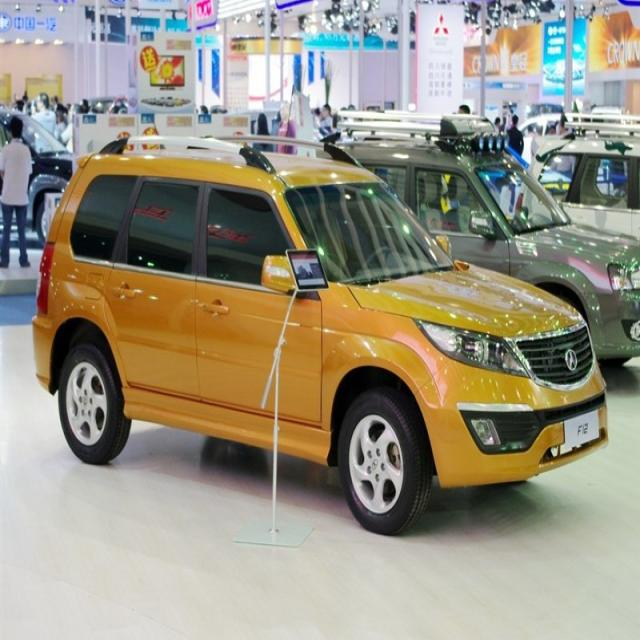back_right_side_light: (34, 238, 53, 320)
door: (111, 180, 214, 417)
front_bumper: (417, 362, 609, 490)
front_glass: (286, 180, 455, 286)
front_right_side_door: (193, 178, 323, 434)
front_right_side_light: (414, 315, 531, 378)
front_right_side_mirror: (262, 253, 305, 298)
wheel: (338, 391, 424, 536), (58, 341, 127, 464)
